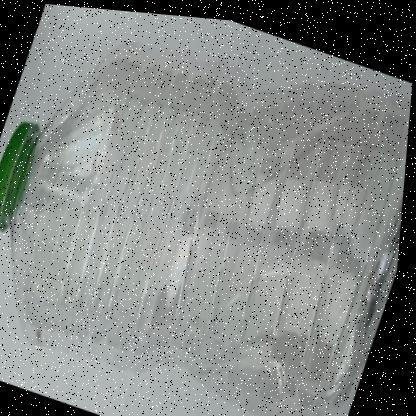bottle cap: (1, 1, 165, 367)
